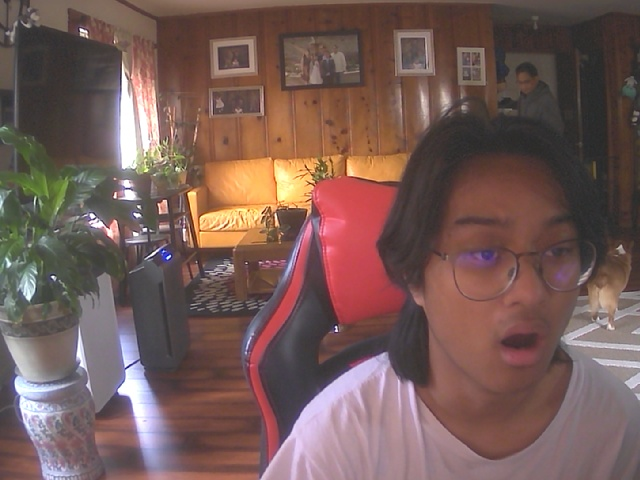fear: (407, 133, 606, 400)
